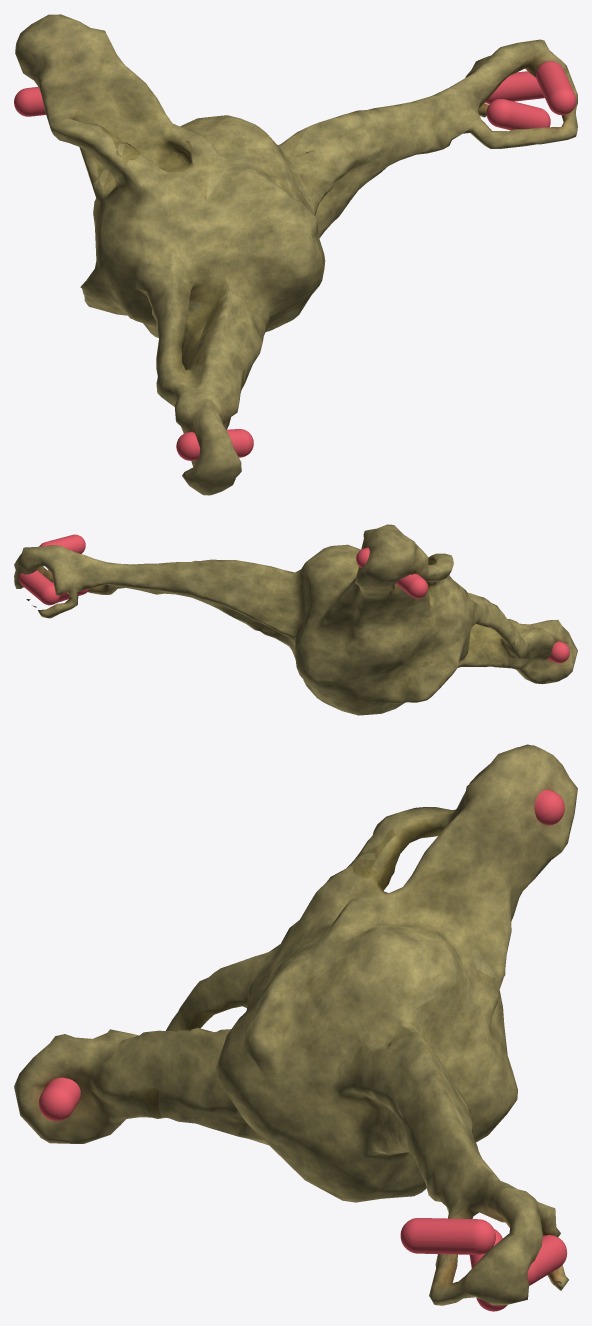
Rendered from macrophage.glb.
The picture shows the model from 3 angles, top to bottom: view 1: azimuth 30°, elevation 25°; view 2: azimuth 150°, elevation 25°; view 3: azimuth 270°, elevation 25°; orthographic projection. The views are drawn at different scales.
Parts seen in each view (by area): view 1: Macrophage 2 Bake w modifiers.001, Macrophage 2 Bacterium work.007, Macrophage 2 Bacterium work.008, Macrophage 2 Bacterium work.006; view 2: Macrophage 2 Bake w modifiers.001, Macrophage 2 Bacterium work.007, Macrophage 2 Bacterium work.006, Macrophage 2 Bacterium work.008; view 3: Macrophage 2 Bake w modifiers.001, Macrophage 2 Bacterium work.007, Macrophage 2 Bacterium work.008, Macrophage 2 Bacterium work.006.
Boxes of the visible parts, x1,y1,x2,y2 form: Macrophage 2 Bake w modifiers.001: (15,14,577,495); Macrophage 2 Bacterium work.007: (484,61,576,130); Macrophage 2 Bacterium work.008: (176,429,253,460); Macrophage 2 Bacterium work.006: (14,87,45,116); Macrophage 2 Bake w modifiers.001: (14,524,577,715); Macrophage 2 Bacterium work.007: (18,534,89,605); Macrophage 2 Bacterium work.006: (356,547,428,598); Macrophage 2 Bacterium work.008: (548,641,569,663); Macrophage 2 Bake w modifiers.001: (14,744,577,1305); Macrophage 2 Bacterium work.007: (400,1218,567,1311); Macrophage 2 Bacterium work.008: (39,1077,80,1121); Macrophage 2 Bacterium work.006: (534,789,564,825).
Bounding box in the file's own units: 11.76 × 6.56 × 8.14.
2 materials, 1 textured.
